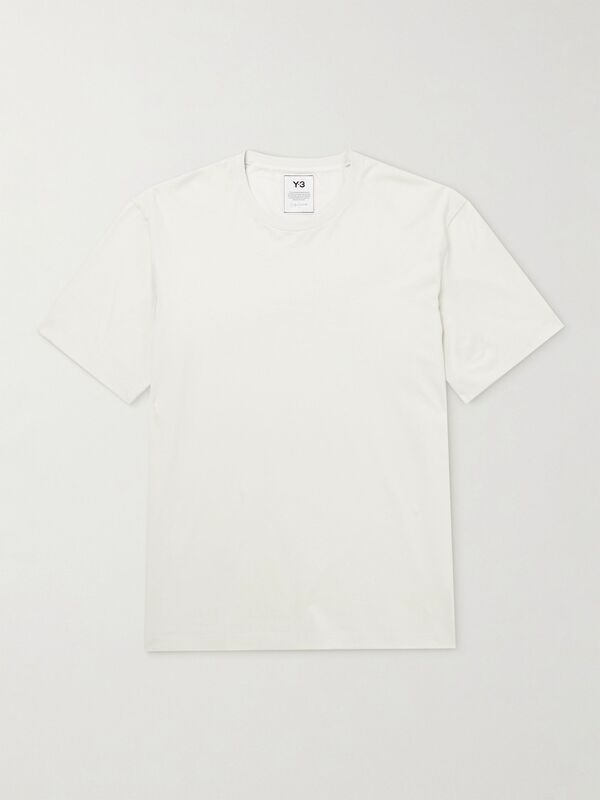tshirt: (27, 143, 574, 656)
